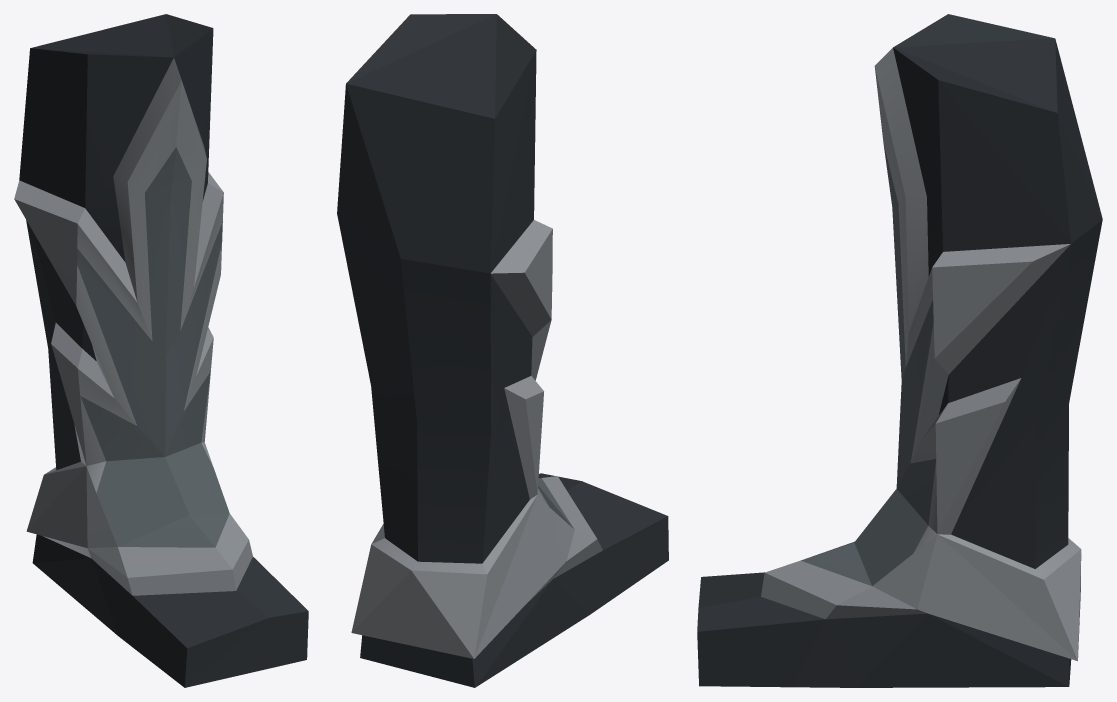
The model's file is Chr_LegLeft_Male_12_Static.fbx.
The picture shows the model from 3 angles, left to right: view 1: azimuth 30°, elevation 25°; view 2: azimuth 150°, elevation 25°; view 3: azimuth 270°, elevation 25°; orthographic projection. The views are drawn at different scales.
Visible parts, largest first — view 1: Chr_LegLeft_Male_12_Static; view 2: Chr_LegLeft_Male_12_Static; view 3: Chr_LegLeft_Male_12_Static.
Boxes of the visible parts, x1,y1,x2,y2 form: Chr_LegLeft_Male_12_Static: [14, 14, 308, 687]; Chr_LegLeft_Male_12_Static: [337, 14, 668, 687]; Chr_LegLeft_Male_12_Static: [697, 14, 1102, 687].
Size of the model in its own units: 0.1314 by 0.404 by 0.242.
